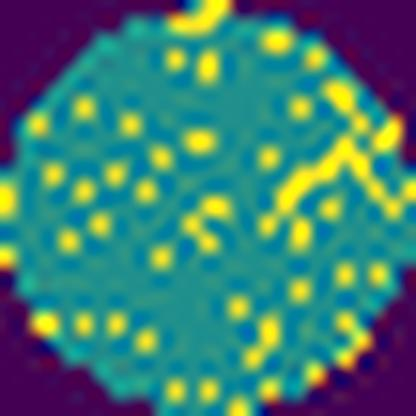Scratch: (257, 131, 416, 240)
